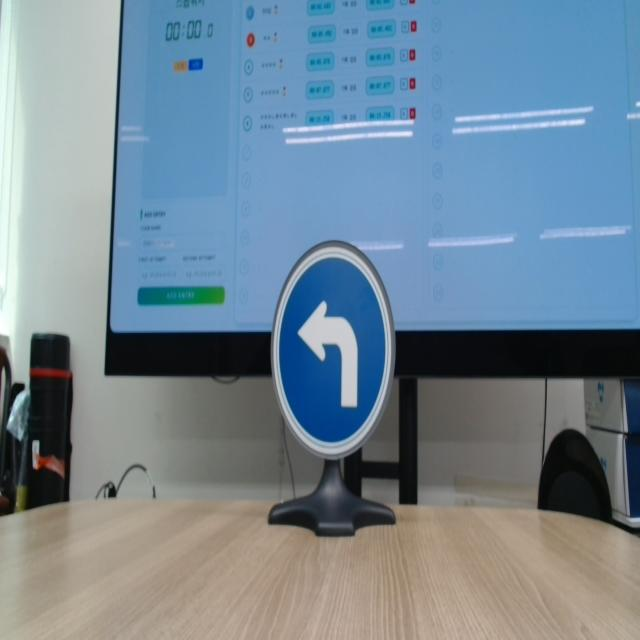left_direction: (261, 237, 397, 460)
